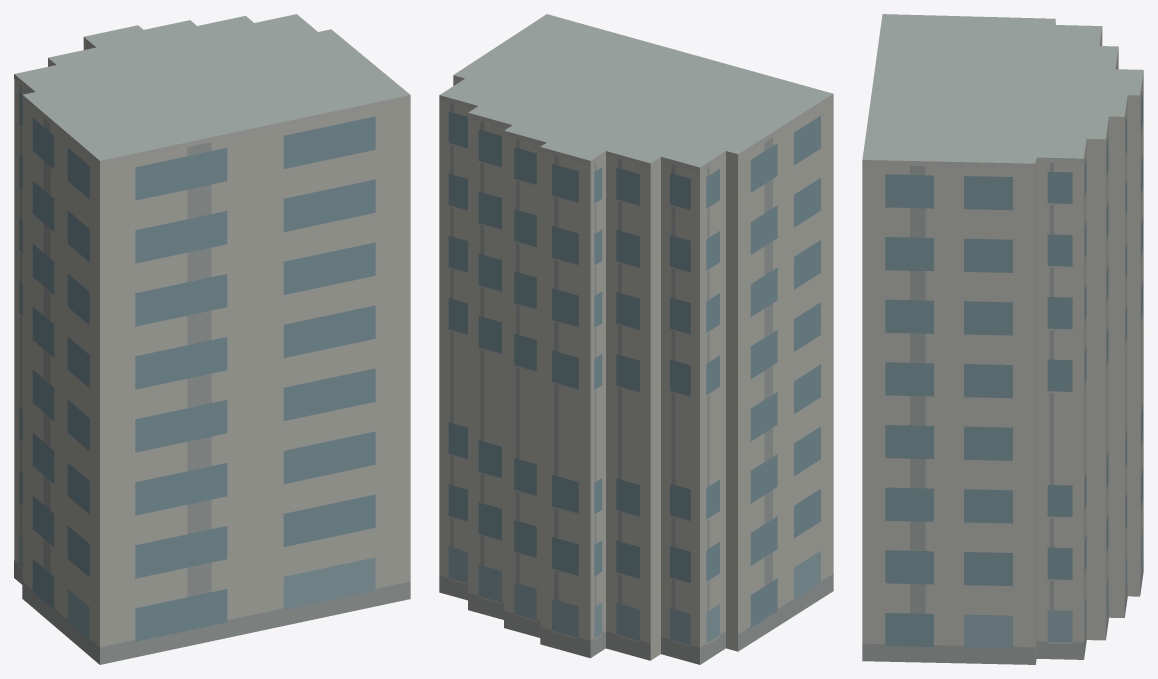
Rendered from survey-upis-32778171.glb.
3 views of the same model, side by side, from view 1: azimuth 30°, elevation 25°; view 2: azimuth 150°, elevation 25°; view 3: azimuth 270°, elevation 25° (orthographic).
Parts seen in each view (by area): view 1: survey-upis-32778171.tmp; view 2: survey-upis-32778171.tmp; view 3: survey-upis-32778171.tmp.
Boxes of the visible parts, bbox=[...] form: survey-upis-32778171.tmp: bbox=[14, 14, 410, 664]; survey-upis-32778171.tmp: bbox=[439, 14, 833, 664]; survey-upis-32778171.tmp: bbox=[862, 14, 1143, 664].
Bounding box in the file's own units: 15.76 × 24.6 × 12.52.
